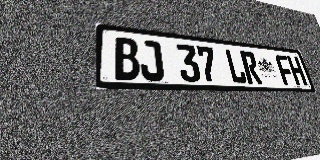3: (176, 44, 201, 82)
7: (195, 46, 220, 83)
B: (114, 37, 141, 80)
F: (274, 55, 296, 85)
H: (286, 56, 308, 86)
J: (138, 39, 165, 81)
L: (224, 49, 248, 84)
R: (239, 51, 263, 84)
